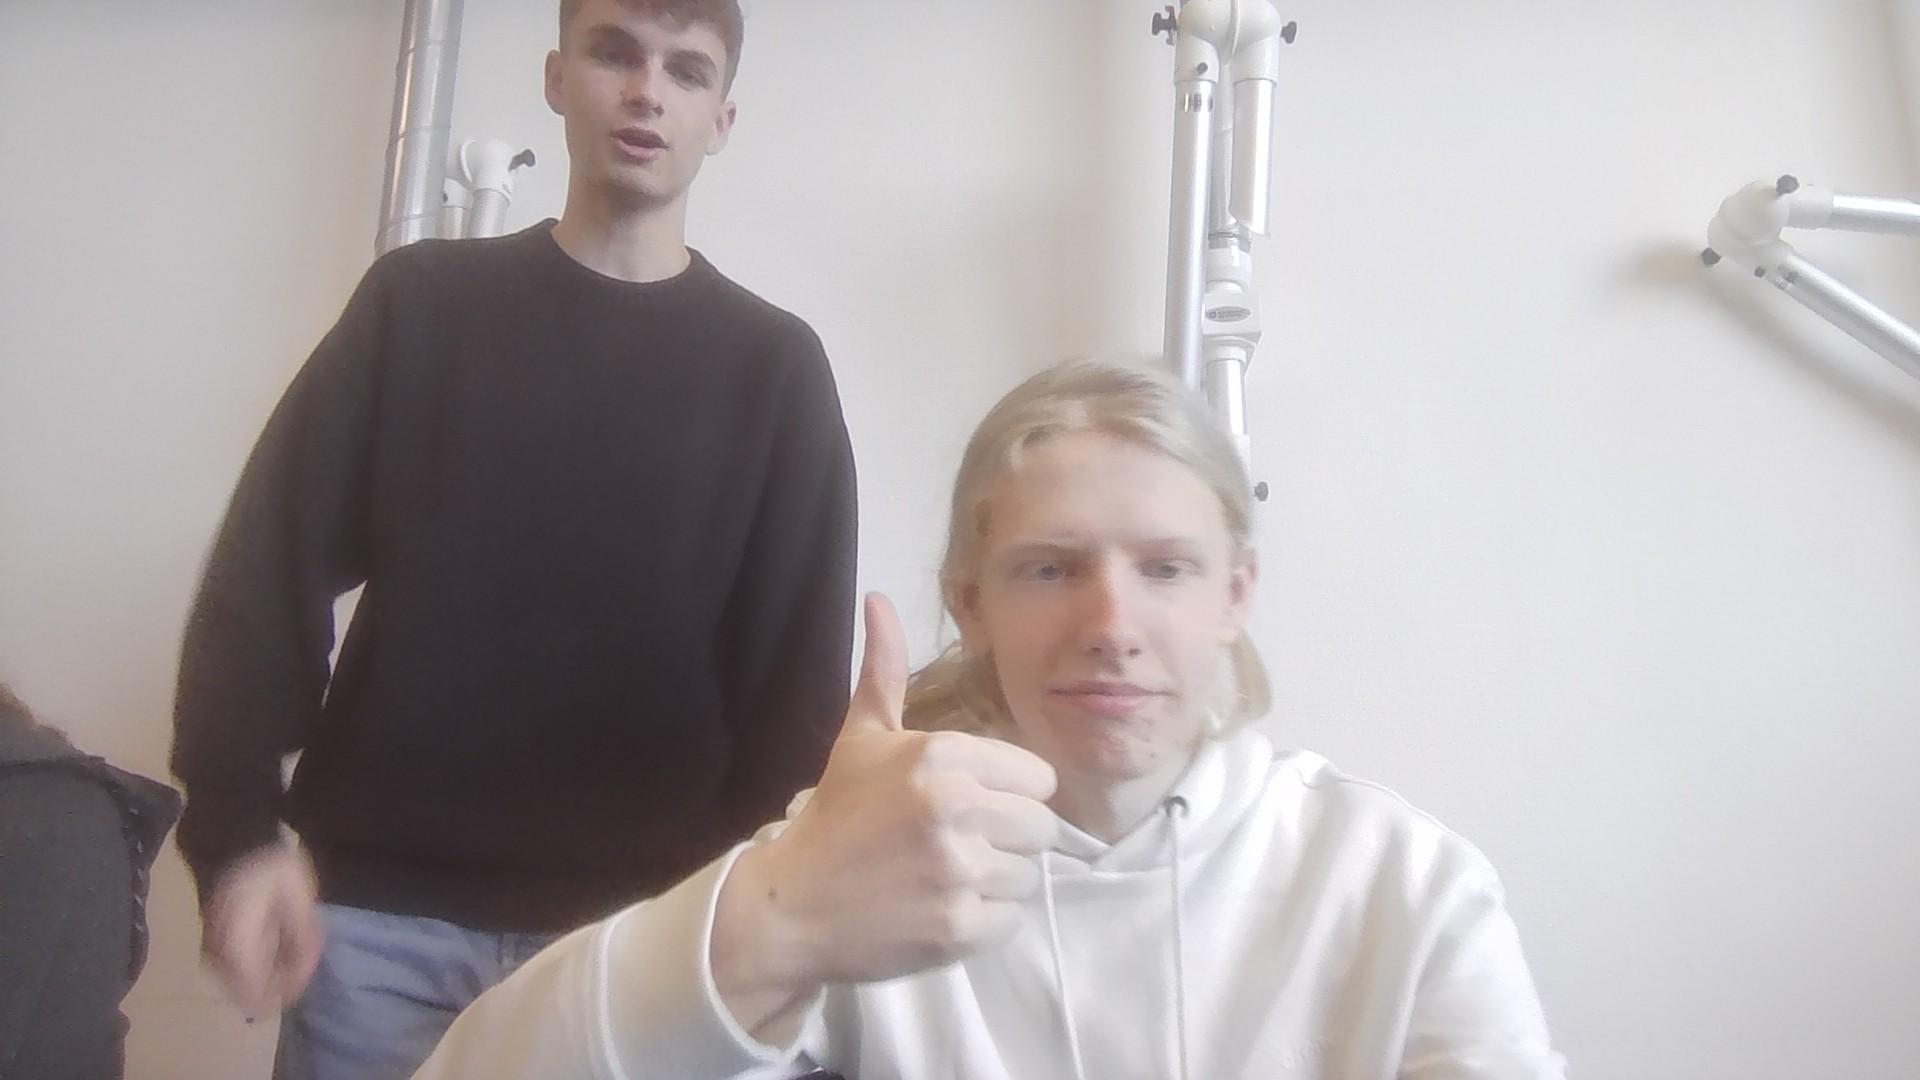thumbs up: (800, 591, 1060, 985)
